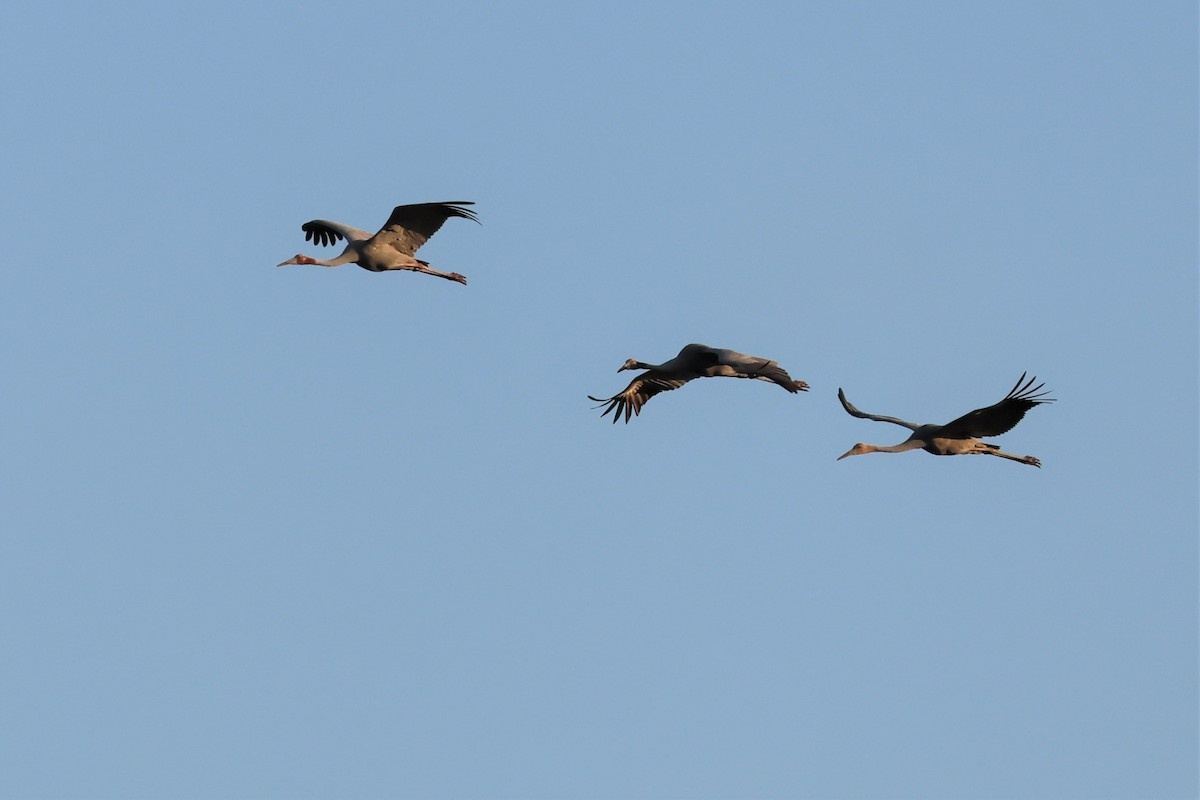crane: (278, 187, 488, 305), (578, 329, 813, 429), (830, 385, 1067, 480)
